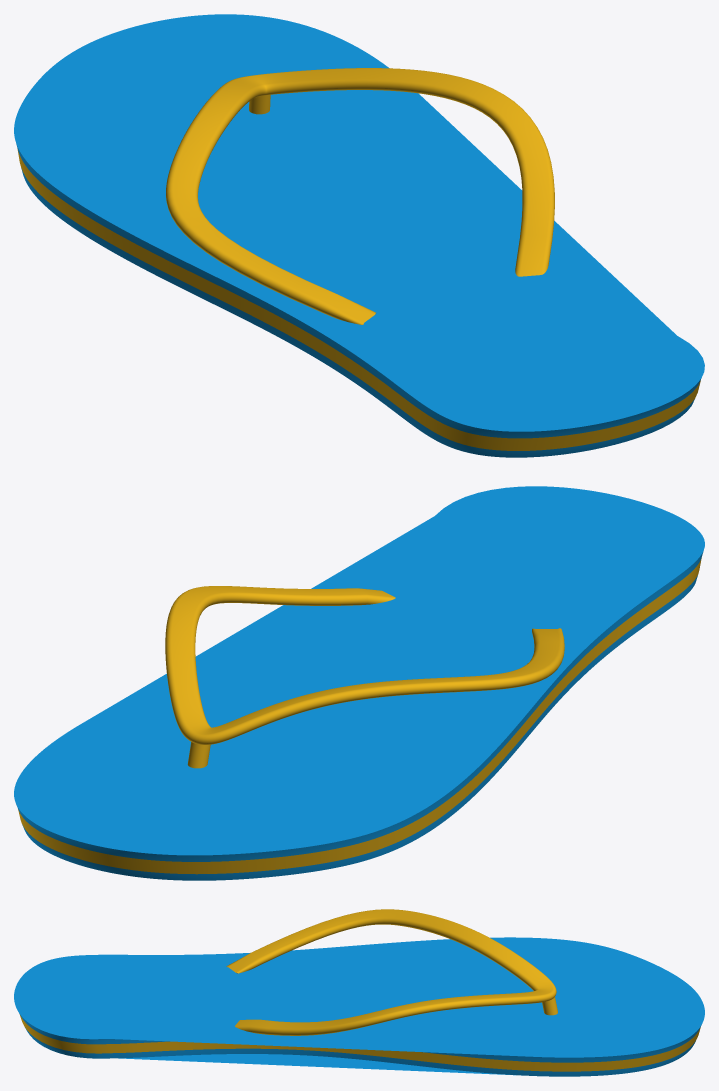
The model's file is Tong_G.fbx.
3 renders of one model, top to bottom at view 1: azimuth 30°, elevation 25°; view 2: azimuth 150°, elevation 25°; view 3: azimuth 270°, elevation 25°, orthographic. The views are drawn at different scales.
Parts seen in each view (by area): view 1: Tong_G; view 2: Tong_G; view 3: Tong_G.
Boxes of the visible parts, x1,y1,x2,y2 form: Tong_G: [14, 14, 704, 457]; Tong_G: [14, 486, 704, 880]; Tong_G: [14, 909, 704, 1076].
Size of the model in its own units: 71.02 by 18.13 by 173.
